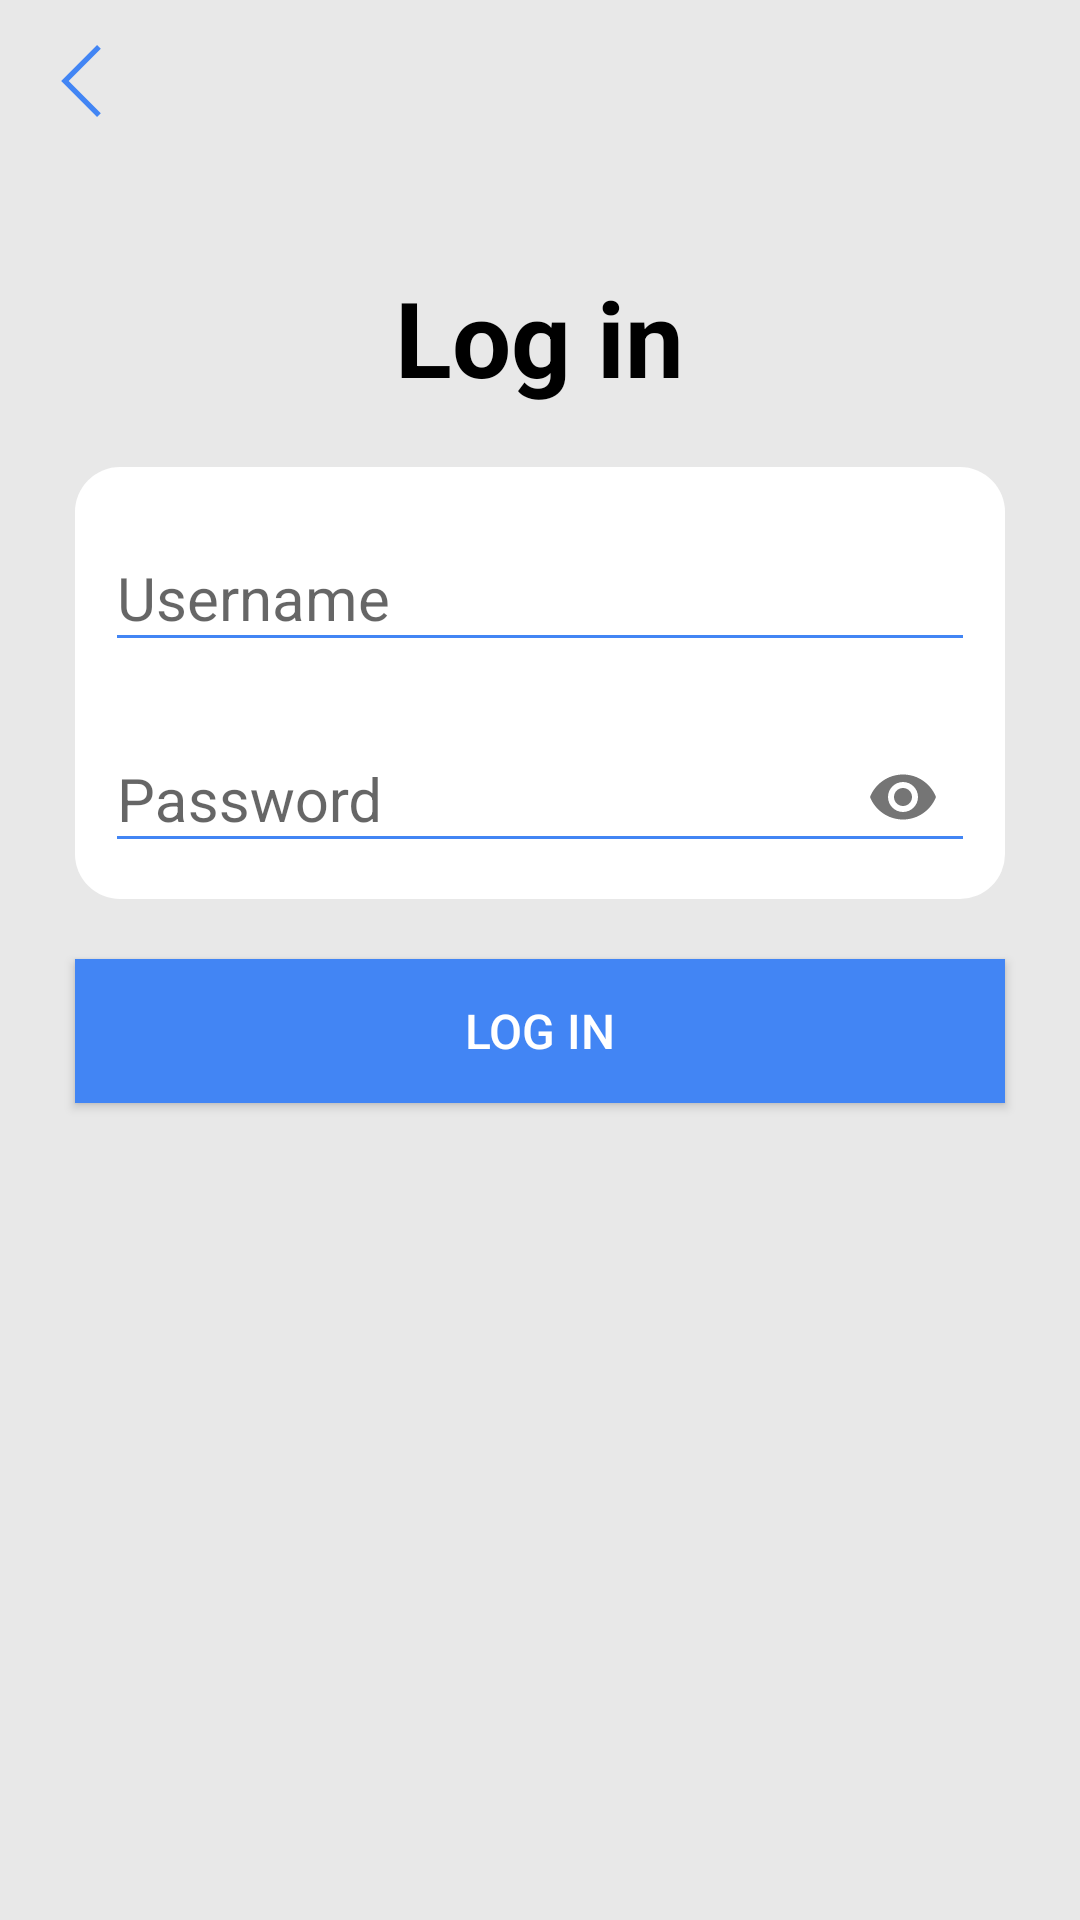

Where icons sit on this 1080px×1920px app screen, as [x1, y1, x2, y2]:
chevron left: [61, 45, 101, 117]
